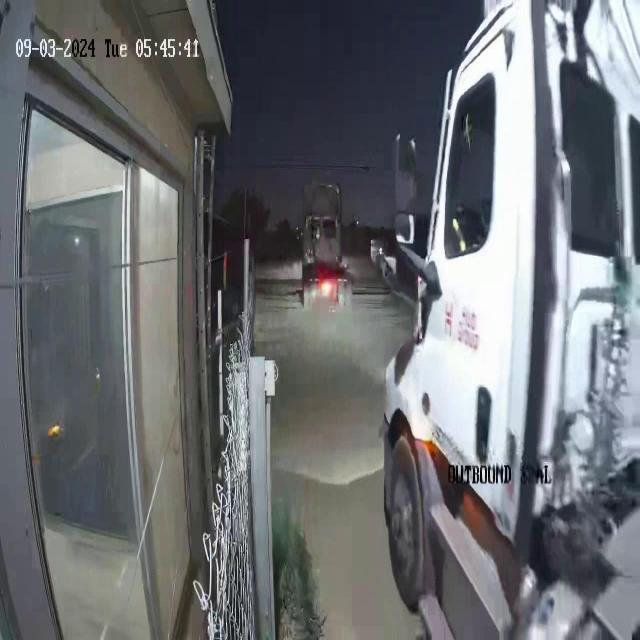TRUCK_OUT: (377, 1, 639, 638)
